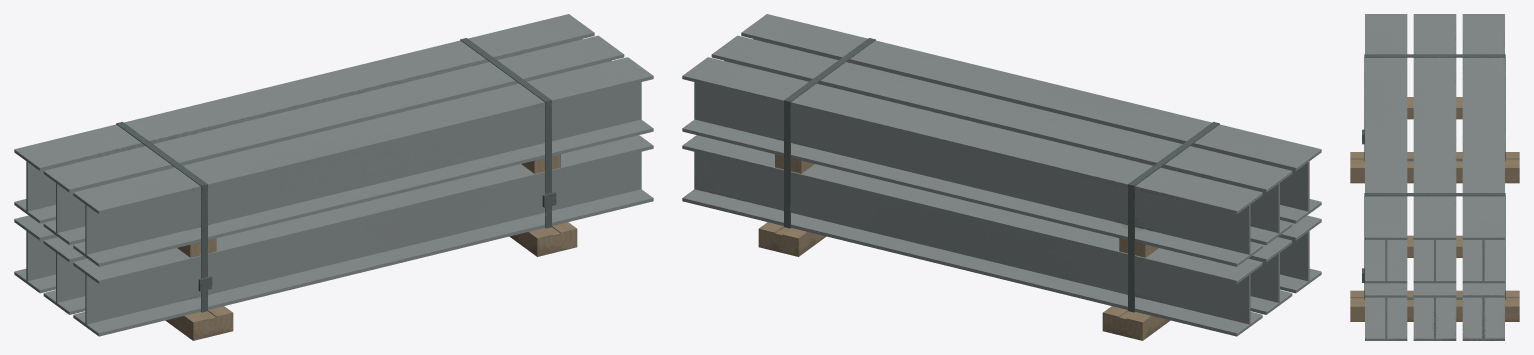
Rendered from industry_steel_beam_stack_small.glb.
3 renders of one model, left to right at view 1: azimuth 30°, elevation 25°; view 2: azimuth 150°, elevation 25°; view 3: azimuth 270°, elevation 25°, orthographic. The views are drawn at different scales.
Parts seen in each view (by area): view 1: SteelBeamStack; view 2: SteelBeamStack; view 3: SteelBeamStack.
Boxes of the visible parts, x1,y1,x2,y2 form: SteelBeamStack: [14, 14, 653, 340]; SteelBeamStack: [682, 14, 1321, 340]; SteelBeamStack: [1350, 14, 1519, 340].
Size of what is drawn, in the model's own units: 2.5 by 0.623 by 0.8.
1 material, 1 textured.
